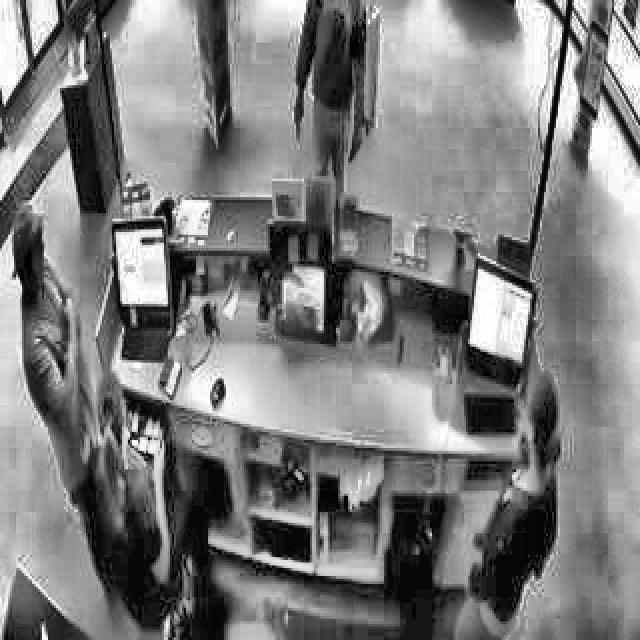robbery: (289, 1, 374, 205)
